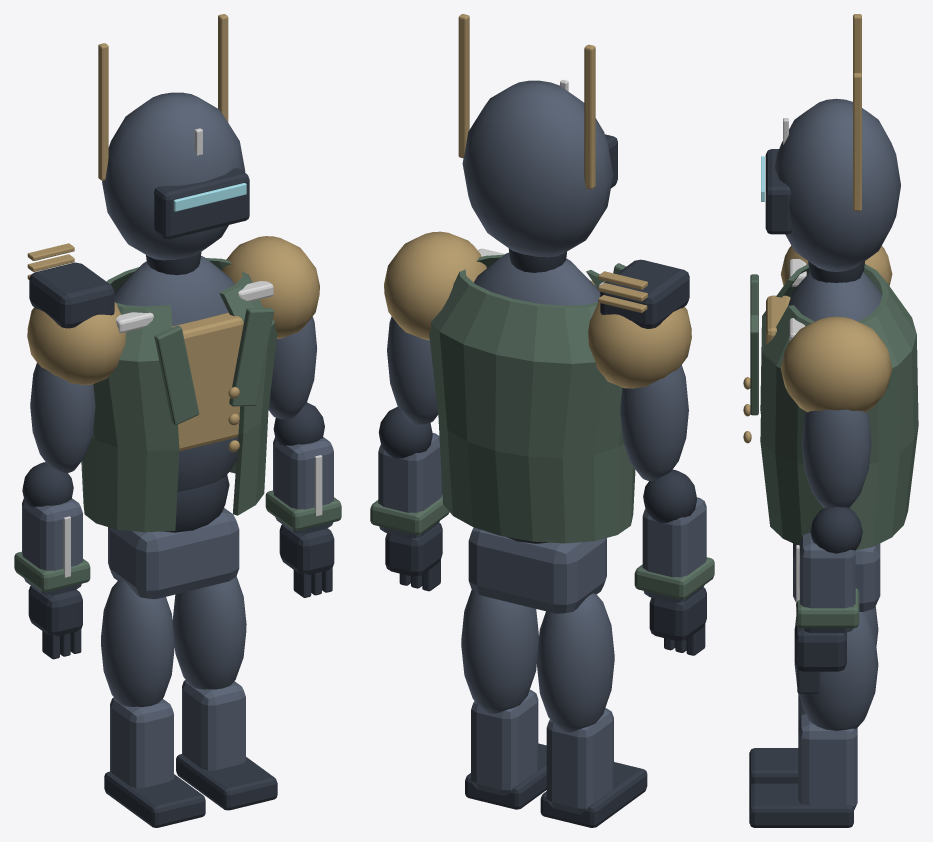
The model's file is watcher.glb.
The picture shows the model from 3 angles, left to right: view 1: azimuth 30°, elevation 25°; view 2: azimuth 150°, elevation 25°; view 3: azimuth 270°, elevation 25°; orthographic projection. The views are drawn at different scales.
Visible parts, largest first — view 1: Surveyor field jacket, Helmet, Pelvis, Thigh R, Articulated thorax, Thigh L, Sternum shield, Shoulder L, Shoulder R, Upper arm R, Shin L, Shin R (+20 smaller); view 2: Surveyor field jacket, Helmet, Pelvis, Thigh R, Thigh L, Shoulder L, Shoulder R, Upper arm R, Shin L, Shin R, Bracer R, Bracer L (+14 smaller); view 3: Surveyor field jacket, Helmet, Shoulder L, Upper arm L, Thigh L, Shin L, Bracer L, Foot L, Articulated thorax, Hand L, Elbow L, Foot R (+11 smaller).
Boxes of the visible parts, bbox=[...] form: Surveyor field jacket: bbox=[81, 258, 276, 532]; Helmet: bbox=[102, 92, 245, 260]; Pelvis: bbox=[108, 508, 239, 599]; Thigh R: bbox=[101, 580, 174, 706]; Articulated thorax: bbox=[114, 256, 237, 491]; Thigh L: bbox=[172, 576, 246, 689]; Sternum shield: bbox=[172, 312, 243, 451]; Shoulder L: bbox=[222, 236, 319, 339]; Shoulder R: bbox=[27, 302, 125, 384]; Upper arm R: bbox=[30, 363, 95, 473]; Shin L: bbox=[182, 680, 245, 770]; Shin R: bbox=[110, 697, 173, 788]; Surveyor field jacket: bbox=[429, 254, 635, 543]; Helmet: bbox=[462, 80, 613, 257]; Pelvis: bbox=[468, 527, 606, 613]; Thigh R: bbox=[537, 593, 614, 732]; Thigh L: bbox=[461, 590, 538, 713]; Shoulder L: bbox=[384, 231, 486, 340]; Shoulder R: bbox=[588, 302, 691, 388]; Upper arm R: bbox=[620, 365, 688, 481]; Shin L: bbox=[471, 689, 538, 795]; Shin R: bbox=[546, 708, 613, 814]; Bracer R: bbox=[642, 497, 706, 603]; Bracer L: bbox=[378, 432, 442, 538]; Surveyor field jacket: bbox=[760, 264, 918, 550]; Helmet: bbox=[775, 98, 900, 271]; Shoulder L: bbox=[780, 316, 892, 412]; Upper arm L: bbox=[801, 409, 871, 508]; Thigh L: bbox=[794, 611, 878, 730]; Shin L: bbox=[798, 713, 857, 809]; Bracer L: bbox=[800, 532, 855, 632]; Foot L: bbox=[749, 783, 853, 827]; Articulated thorax: bbox=[788, 272, 881, 321]; Hand L: bbox=[794, 625, 846, 671]; Elbow L: bbox=[810, 507, 862, 553]; Foot R: bbox=[749, 748, 798, 787].
Size of the model in its own units: 1 by 2.39 by 0.502.
